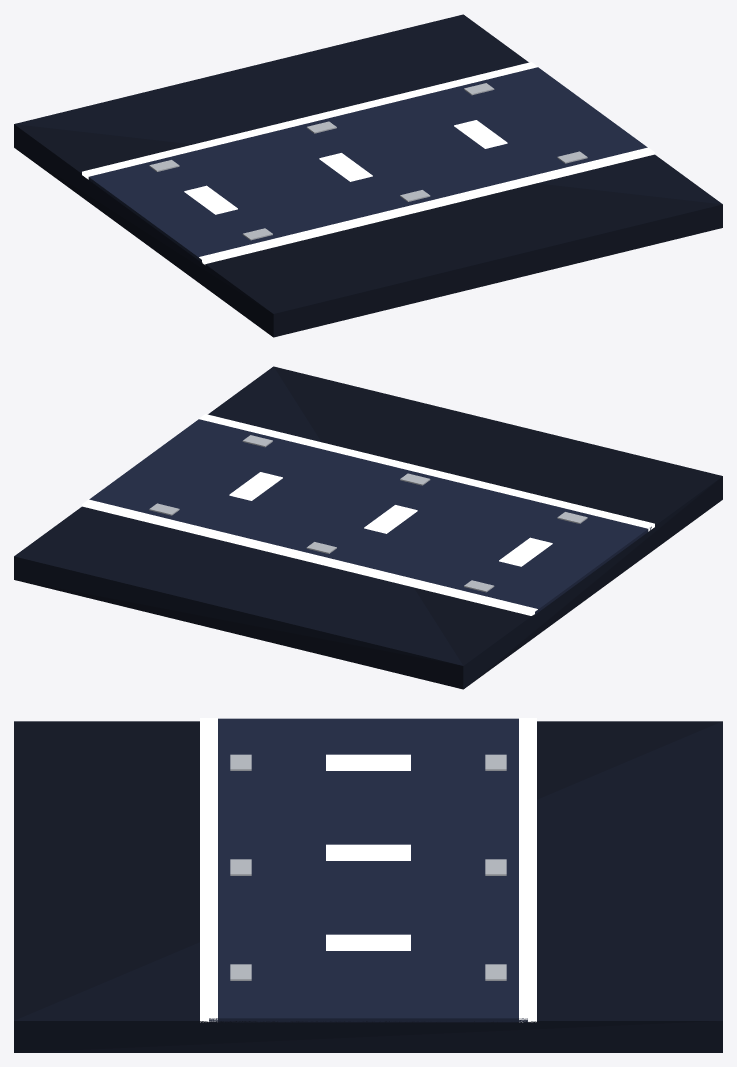
File: kit-tokyo-floor-2.glb
The picture shows the model from 3 angles, top to bottom: view 1: azimuth 30°, elevation 25°; view 2: azimuth 150°, elevation 25°; view 3: azimuth 270°, elevation 25°; orthographic projection. The views are drawn at different scales.
Visible parts, largest first — view 1: kit-tokyo-floor-2; view 2: kit-tokyo-floor-2; view 3: kit-tokyo-floor-2.
Part boxes in pixels (x1,y1,x2,y2): kit-tokyo-floor-2: (14, 14, 722, 337); kit-tokyo-floor-2: (14, 366, 722, 689); kit-tokyo-floor-2: (14, 718, 722, 1052).
Size of the model in its own units: 2 by 0.113 by 2.
